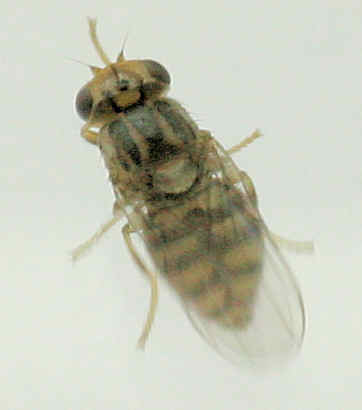Chloropidae: (68, 7, 317, 381)
